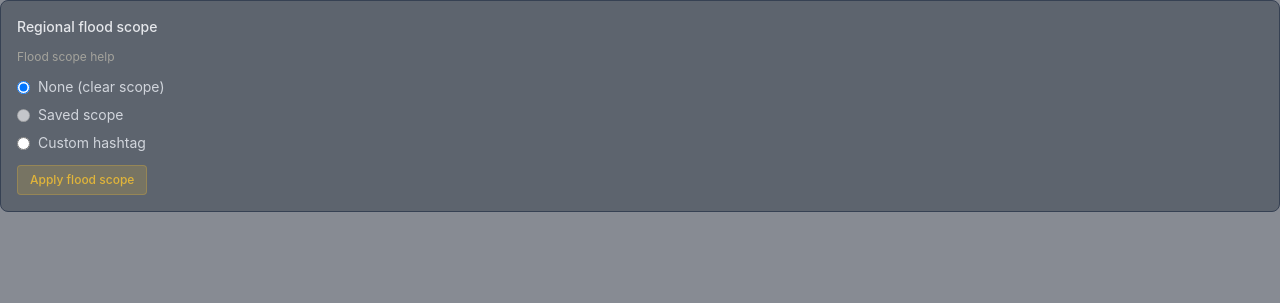
MeshcoreFloodScopeSection › does not auto-add when apply fails
The width and height of the screenshot is (1280, 303).
Click the radio button labelled "Custom hashtag": point(24, 143) [17,136,30,150]
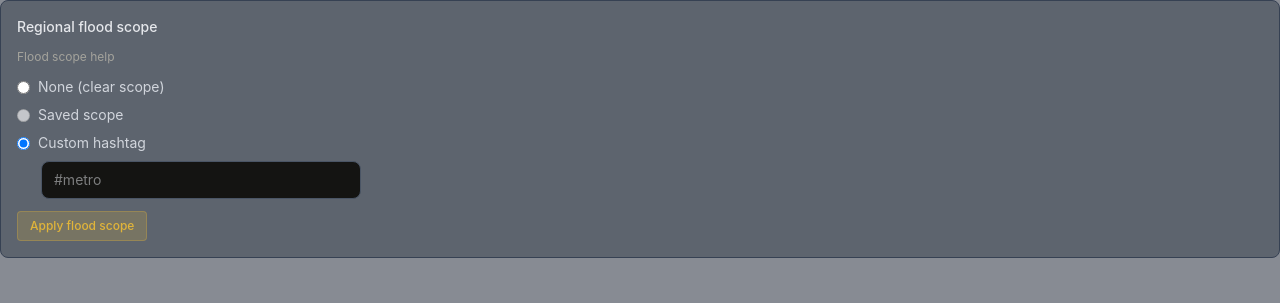
In the field named "Custom hashtag": point(201, 180) [41,161,361,199], type "#fail"
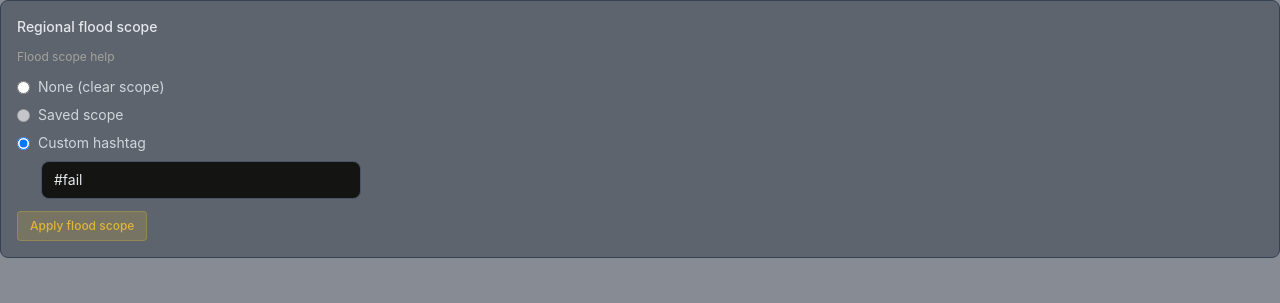
Click the button "Apply flood scope": point(82, 226) [17,211,147,241]
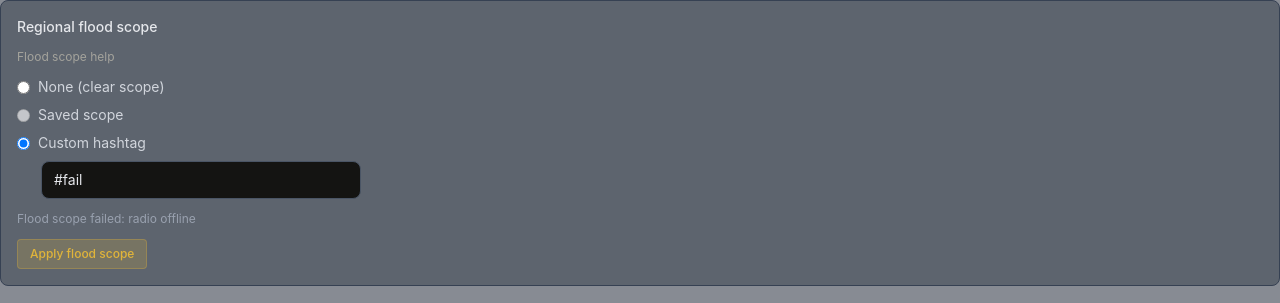
Result: the text "Flood scope failed: radio offline" is shown at [17,211,196,226]
